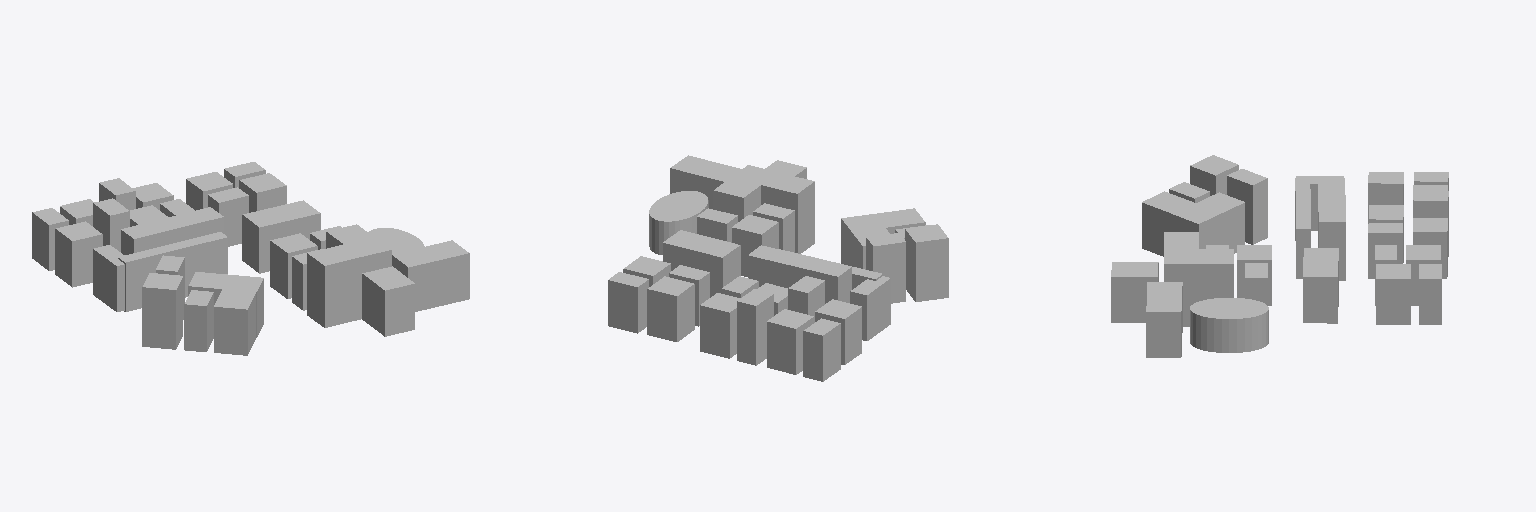
The model's file is buildings.obj.
3 views of the same model, side by side, from view 1: azimuth 30°, elevation 25°; view 2: azimuth 150°, elevation 25°; view 3: azimuth 270°, elevation 25° (orthographic).
Parts seen in each view (by area): view 1: Cube.012; view 2: Cube.012; view 3: Cube.012.
Part boxes in pixels (x1,y1,x2,y2): Cube.012: (32, 162, 469, 355); Cube.012: (608, 155, 948, 381); Cube.012: (1111, 155, 1448, 357).
Bounding box in the file's own units: 13.34 × 2.82 × 13.24.